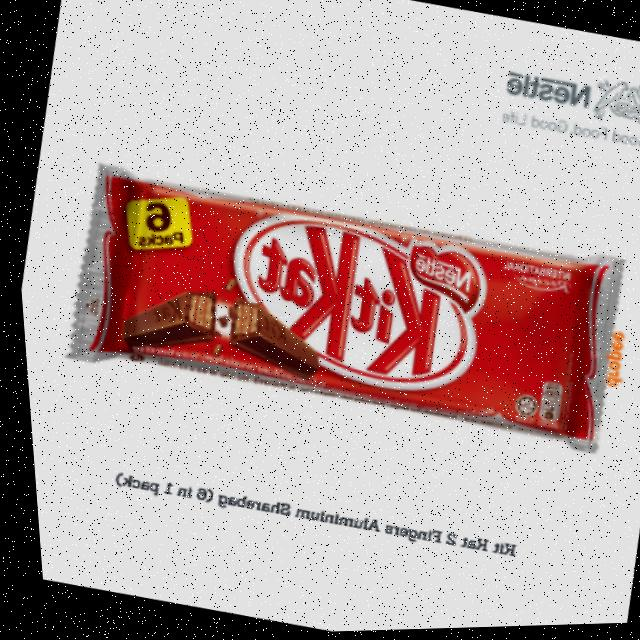kitkat: (50, 152, 629, 468)
